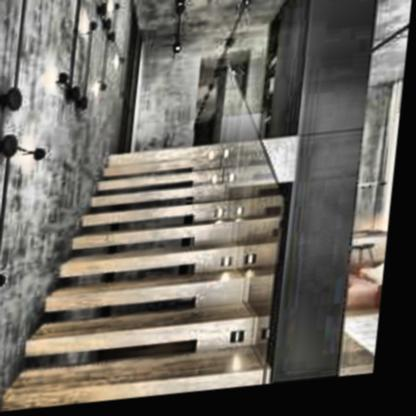stair: (73, 127, 295, 412)
